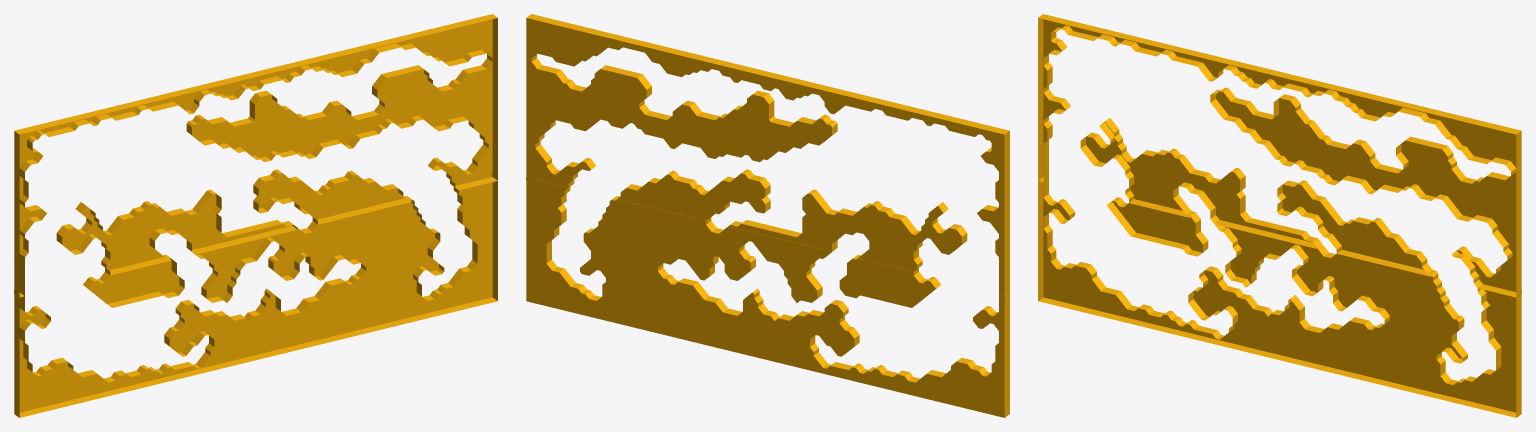
The model's file is ExtrudedCave Mesh.fbx.
The picture shows the model from 3 angles, left to right: view 1: azimuth 30°, elevation 25°; view 2: azimuth 150°, elevation 25°; view 3: azimuth 330°, elevation 25°; orthographic projection.
Visible parts, largest first — view 1: Cave_Mesh; view 2: Cave_Mesh; view 3: Cave_Mesh.
Boxes of the visible parts, <box> form: Cave_Mesh: <box>14,14,497,417</box>; Cave_Mesh: <box>526,14,1009,417</box>; Cave_Mesh: <box>1038,14,1521,417</box>.
Size of the model in its own units: 12900 by 7300 by 257.
